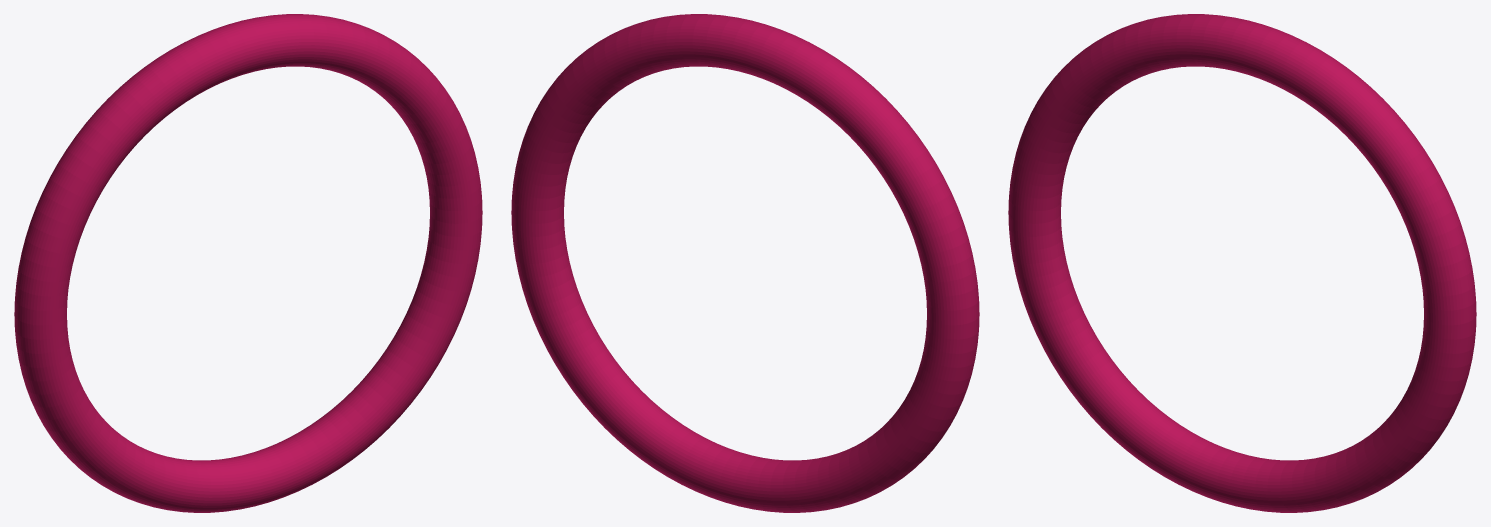
3 renders of one model, left to right at view 1: azimuth 30°, elevation 25°; view 2: azimuth 150°, elevation 25°; view 3: azimuth 330°, elevation 25°, orthographic.
Parts seen in each view (by area): view 1: world; view 2: world; view 3: world.
Boxes of the visible parts, x1,y1,x2,y2 form: world: (14,14,482,512); world: (511,14,979,512); world: (1008,14,1476,512).
Bounding box in the file's own units: 31.07 × 31.07 × 3.06.
